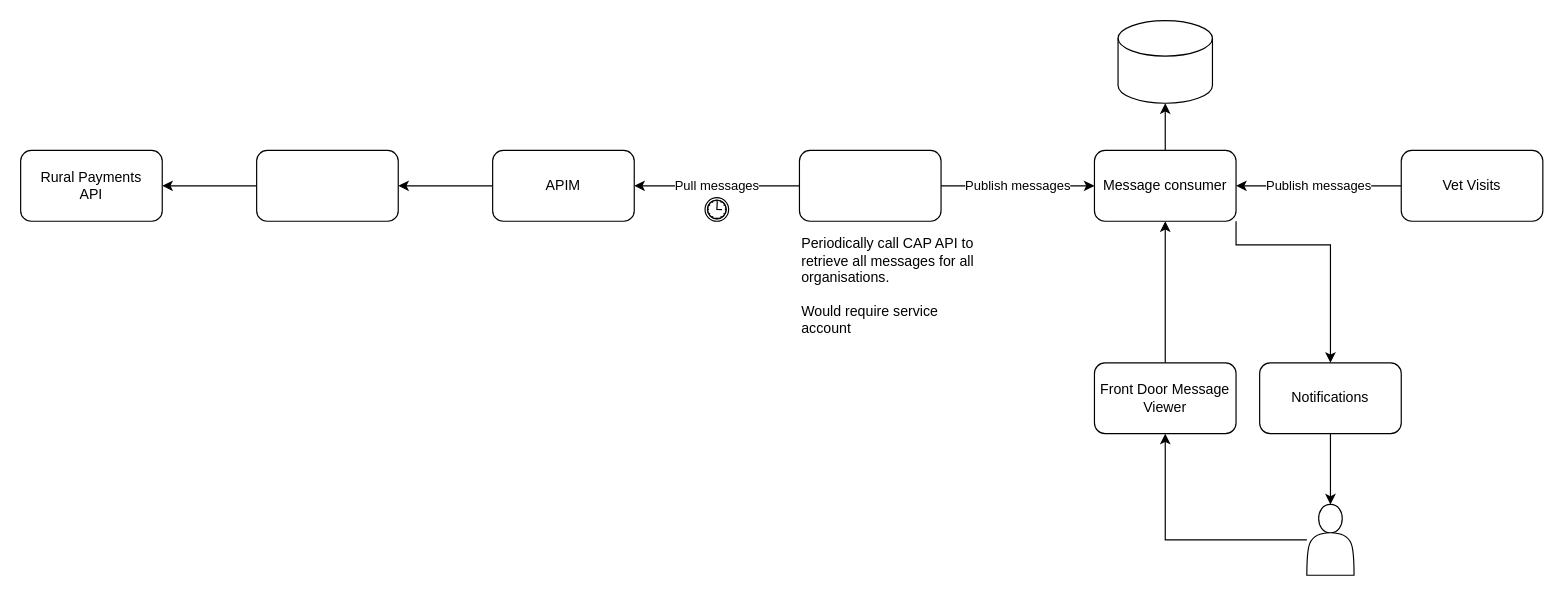
Some shapes in this 1563 by 596 pixel diagram are drawn without their labels. The centre of each missing label's shape, as x and y in pixels:
"CAP Gateway" goes at (326,185).
"CAP Message Adapter" goes at (869,185).
"Messages" goes at (1164,61).
